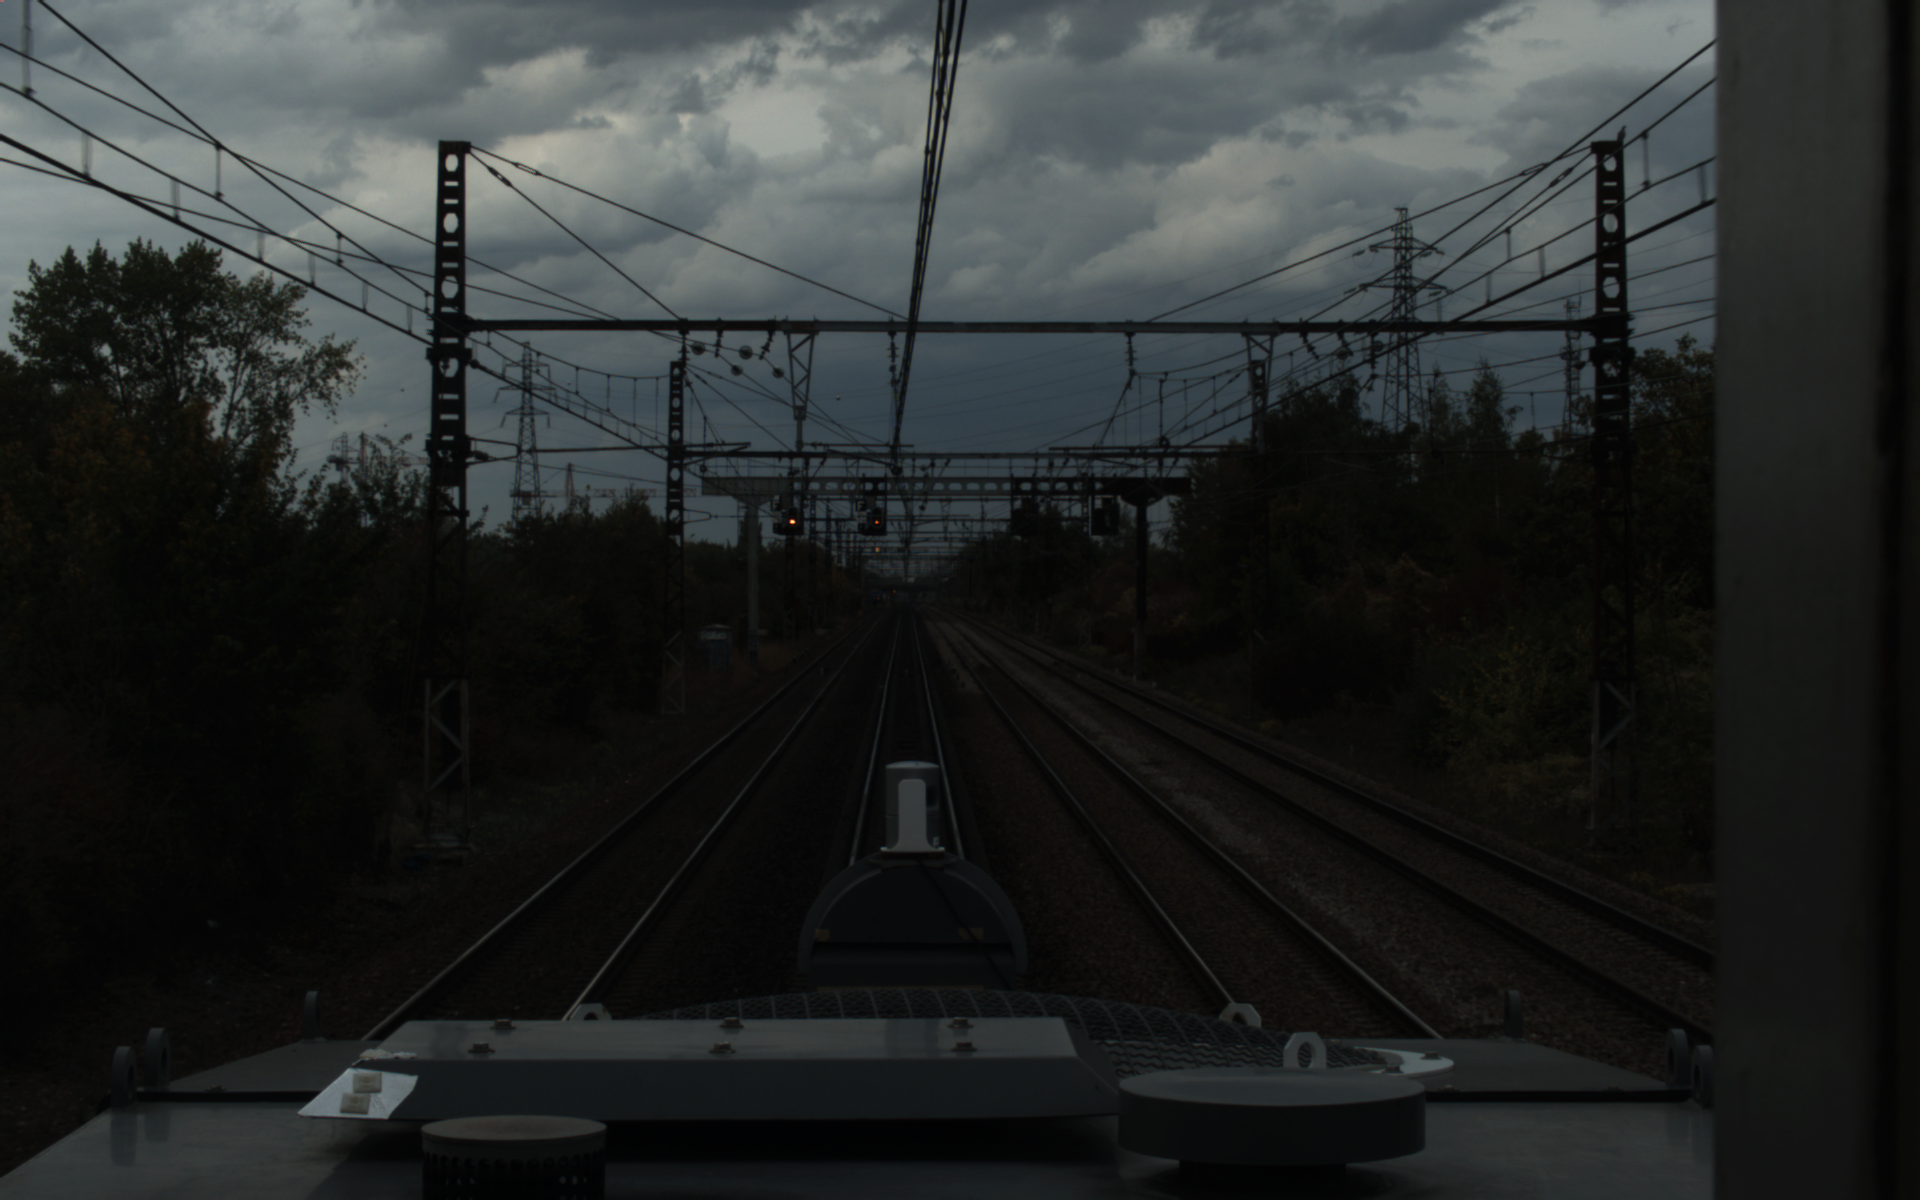Blinking: (868, 505, 885, 529)
Fixed: (784, 505, 800, 529)
